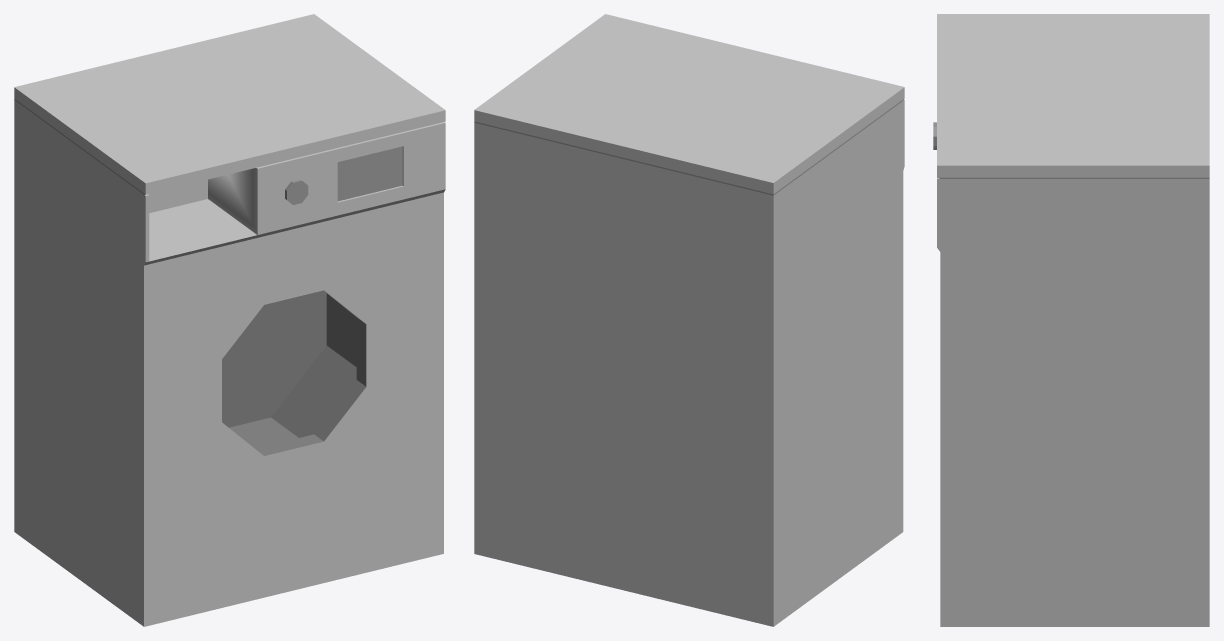
Rendered from Washer_01.fbx.
3 views of the same model, side by side, from view 1: azimuth 30°, elevation 25°; view 2: azimuth 150°, elevation 25°; view 3: azimuth 270°, elevation 25° (orthographic). The views are drawn at different scales.
Parts seen in each view (by area): view 1: Washer_01; view 2: Washer_01; view 3: Washer_01.
Boxes of the visible parts, x1=… form: Washer_01: x1=14, y1=14, x2=445, y2=626; Washer_01: x1=474, y1=14, x2=904, y2=626; Washer_01: x1=933, y1=14, x2=1209, y2=626.
Size of the model in its own units: 60 by 85 by 46.2.
